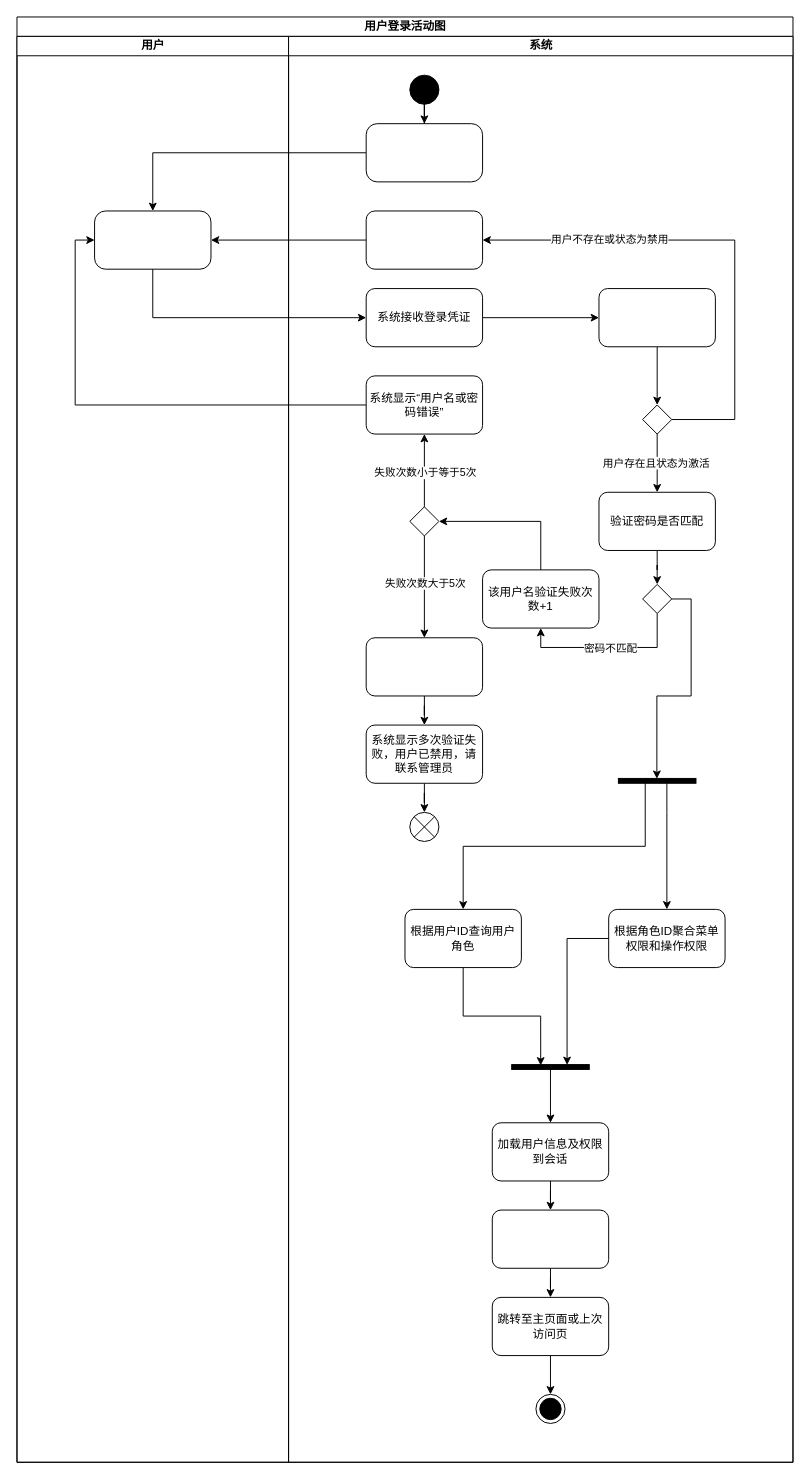
Image size: 810x1479. Some labels were removed from this diagram. The centre of each missing label's shape, as x and y in pixels:
"显示登录界面" belongs at (424,152).
"查询用户表" belongs at (656,317).
"用户状态更新为禁用" belongs at (424,666).
"用户输入 用户名和密码" belongs at (152,239).
"系统显示“用户不存在或状态为禁用”" belongs at (424,239).
"记录登录成功日志" belongs at (550,1238).
